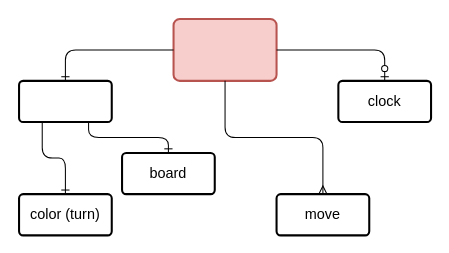
Image size: 449x253. Some labels were removed from this diagram. Here are the shapes that lost their labels. From the top down, the centre of each, then its label:
At point (224, 49): "Game core".
At point (65, 101): "situation".
